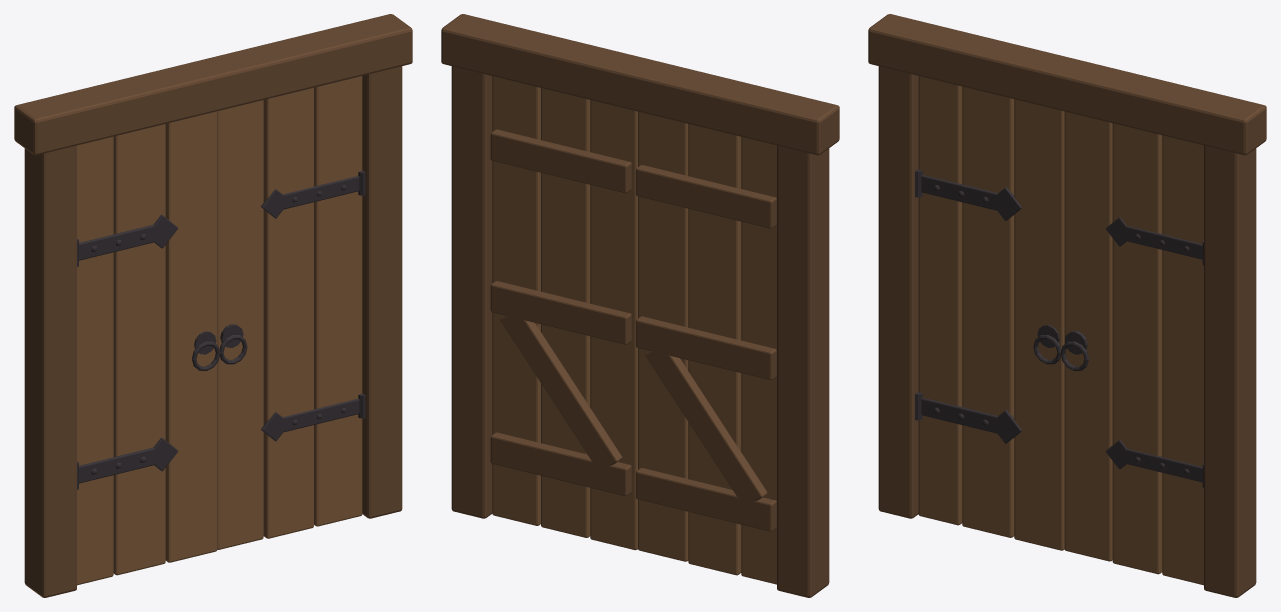
The model's file is SM_Door_RusticDouble_02.fbx.
3 renders of one model, left to right at view 1: azimuth 30°, elevation 25°; view 2: azimuth 150°, elevation 25°; view 3: azimuth 330°, elevation 25°, orthographic.
Visible parts, largest first — view 1: SM_Door_RusticDouble_02_Frame, SM_Door_RusticDouble_02_L_Plank3, SM_Door_RusticDouble_02_L_Plank2, SM_Door_RusticDouble_02_Lintel, SM_Door_RusticDouble_02_R_Plank2, SM_Door_RusticDouble_02_R_Plank3, SM_Door_RusticDouble_02_R_Plank1, SM_Door_RusticDouble_02_JambR, SM_Door_RusticDouble_02_L_Plank1, SM_Door_RusticDouble_02_L_Strap_0.55, SM_Door_RusticDouble_02_L_Strap_1.65, SM_Door_RusticDouble_02_R_StrapR_1.65 (+3 smaller); view 2: SM_Door_RusticDouble_02_Frame, SM_Door_RusticDouble_02_Lintel, SM_Door_RusticDouble_02_JambR, SM_Door_RusticDouble_02_R_Plank1, SM_Door_RusticDouble_02_L_Plank3, SM_Door_RusticDouble_02_L_Plank2, SM_Door_RusticDouble_02_R_Plank3, SM_Door_RusticDouble_02_R_Plank2, SM_Door_RusticDouble_02_L_Plank1, SM_Door_RusticDouble_02_R_Brace, SM_Door_RusticDouble_02_L_Brace, SM_Door_RusticDouble_02_R_Ledge3 (+5 smaller); view 3: SM_Door_RusticDouble_02_JambR, SM_Door_RusticDouble_02_L_Plank3, SM_Door_RusticDouble_02_L_Plank2, SM_Door_RusticDouble_02_Lintel, SM_Door_RusticDouble_02_R_Plank1, SM_Door_RusticDouble_02_R_Plank2, SM_Door_RusticDouble_02_Frame, SM_Door_RusticDouble_02_L_Plank1, SM_Door_RusticDouble_02_R_Plank3, SM_Door_RusticDouble_02_L_Strap_1.65, SM_Door_RusticDouble_02_L_Strap_0.55, SM_Door_RusticDouble_02_R_StrapR_0.55 (+3 smaller).
Part boxes in pixels (x1,y1,x2,y2): SM_Door_RusticDouble_02_Frame: (24, 96, 76, 597); SM_Door_RusticDouble_02_L_Plank3: (165, 111, 217, 562); SM_Door_RusticDouble_02_L_Plank2: (113, 124, 165, 575); SM_Door_RusticDouble_02_Lintel: (14, 14, 412, 155); SM_Door_RusticDouble_02_R_Plank2: (263, 87, 313, 538); SM_Door_RusticDouble_02_R_Plank3: (314, 76, 362, 526); SM_Door_RusticDouble_02_R_Plank1: (217, 100, 263, 549); SM_Door_RusticDouble_02_JambR: (353, 17, 402, 518); SM_Door_RusticDouble_02_L_Plank1: (77, 136, 113, 585); SM_Door_RusticDouble_02_L_Strap_0.55: (79, 447, 154, 483); SM_Door_RusticDouble_02_L_Strap_1.65: (79, 225, 154, 260); SM_Door_RusticDouble_02_R_StrapR_1.65: (283, 176, 359, 209); SM_Door_RusticDouble_02_Frame: (777, 96, 829, 597); SM_Door_RusticDouble_02_Lintel: (441, 14, 839, 155); SM_Door_RusticDouble_02_JambR: (451, 17, 500, 518); SM_Door_RusticDouble_02_R_Plank1: (590, 100, 637, 550); SM_Door_RusticDouble_02_L_Plank3: (638, 111, 688, 561); SM_Door_RusticDouble_02_L_Plank2: (688, 124, 741, 575); SM_Door_RusticDouble_02_R_Plank3: (492, 76, 540, 525); SM_Door_RusticDouble_02_R_Plank2: (541, 88, 590, 537); SM_Door_RusticDouble_02_L_Plank1: (741, 137, 776, 584); SM_Door_RusticDouble_02_R_Brace: (500, 311, 622, 470); SM_Door_RusticDouble_02_L_Brace: (645, 346, 767, 501); SM_Door_RusticDouble_02_R_Ledge3: (490, 129, 631, 193); SM_Door_RusticDouble_02_JambR: (1204, 96, 1256, 597); SM_Door_RusticDouble_02_L_Plank3: (1014, 99, 1064, 550); SM_Door_RusticDouble_02_L_Plank2: (962, 86, 1014, 537); SM_Door_RusticDouble_02_Lintel: (868, 14, 1266, 155); SM_Door_RusticDouble_02_R_Plank1: (1064, 111, 1112, 561); SM_Door_RusticDouble_02_R_Plank2: (1112, 123, 1162, 574); SM_Door_RusticDouble_02_Frame: (878, 17, 927, 518); SM_Door_RusticDouble_02_L_Plank1: (918, 76, 962, 525); SM_Door_RusticDouble_02_R_Plank3: (1162, 135, 1203, 585); SM_Door_RusticDouble_02_L_Strap_1.65: (921, 175, 997, 210); SM_Door_RusticDouble_02_L_Strap_0.55: (921, 398, 997, 433); SM_Door_RusticDouble_02_R_StrapR_0.55: (1126, 449, 1202, 482).
Size of the model in its own units: 1.96 by 2.38 by 0.1944.
